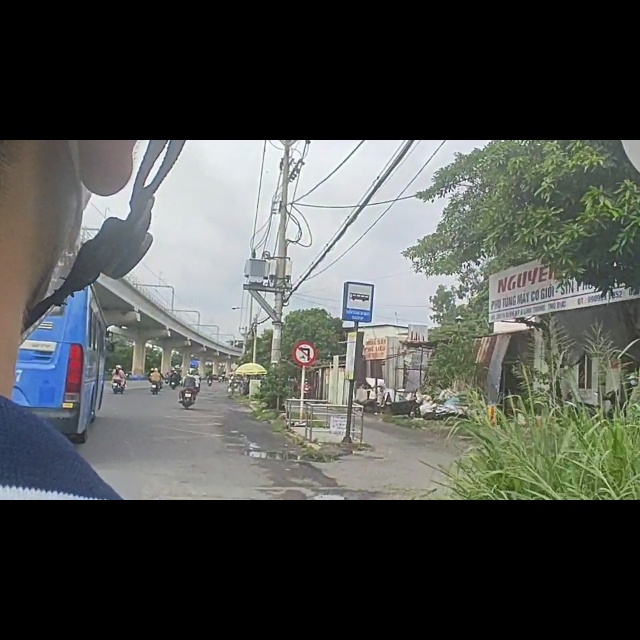bien_cam: (342, 250, 375, 328), (293, 358, 317, 404)
